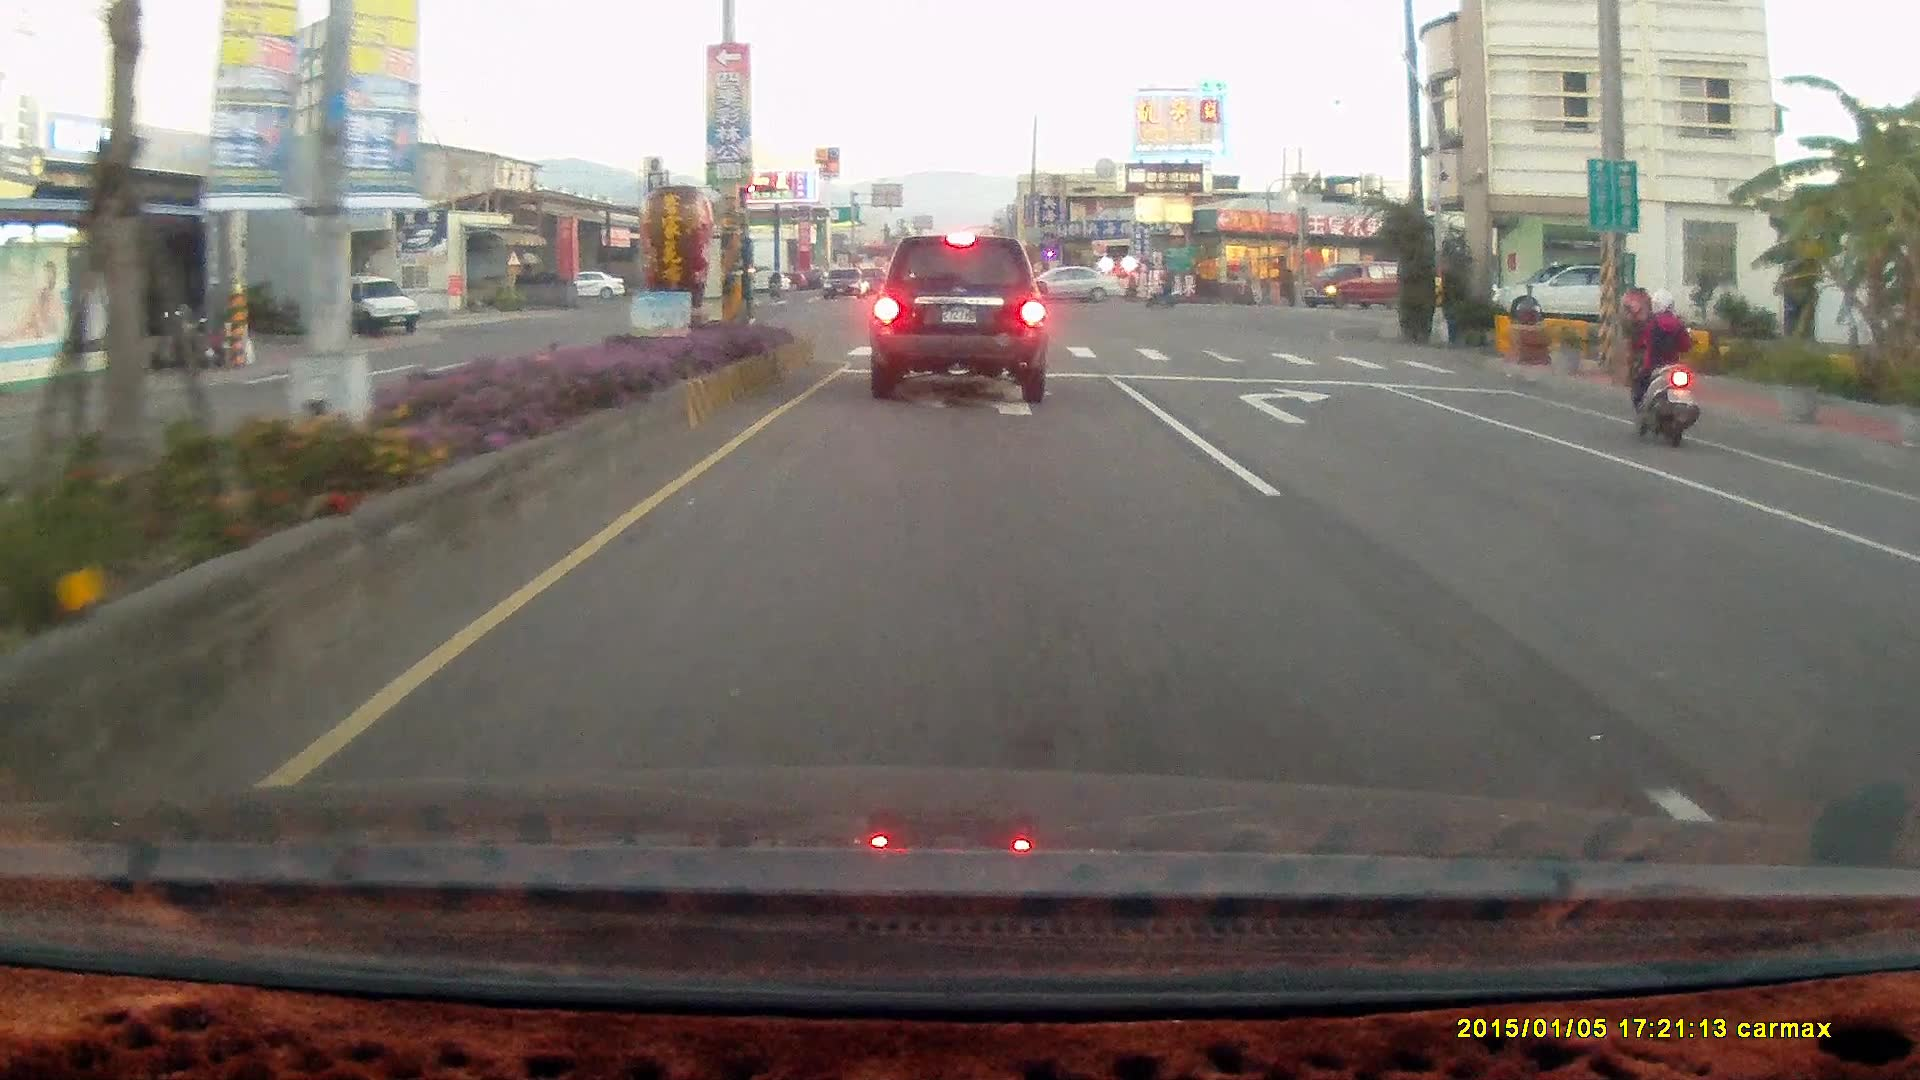rider: (1624, 288, 1700, 452), (1143, 267, 1181, 310)
vehicle: (867, 234, 1049, 403), (1491, 261, 1643, 328), (1896, 493, 1920, 836), (1493, 264, 1614, 330), (1883, 528, 1920, 690), (339, 276, 422, 339), (1300, 263, 1407, 311), (1011, 267, 1122, 309), (1012, 263, 1120, 304), (1305, 268, 1396, 314)
